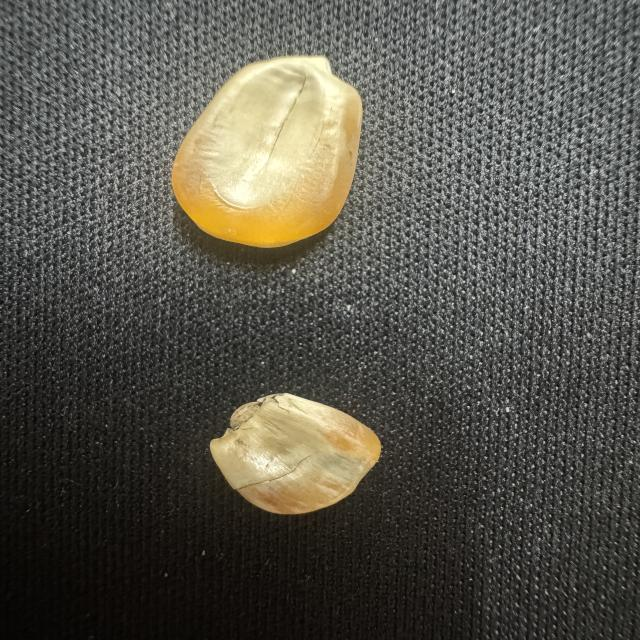Bad-Seed: (202, 387, 390, 520)
Good-Seed: (161, 47, 371, 253)
